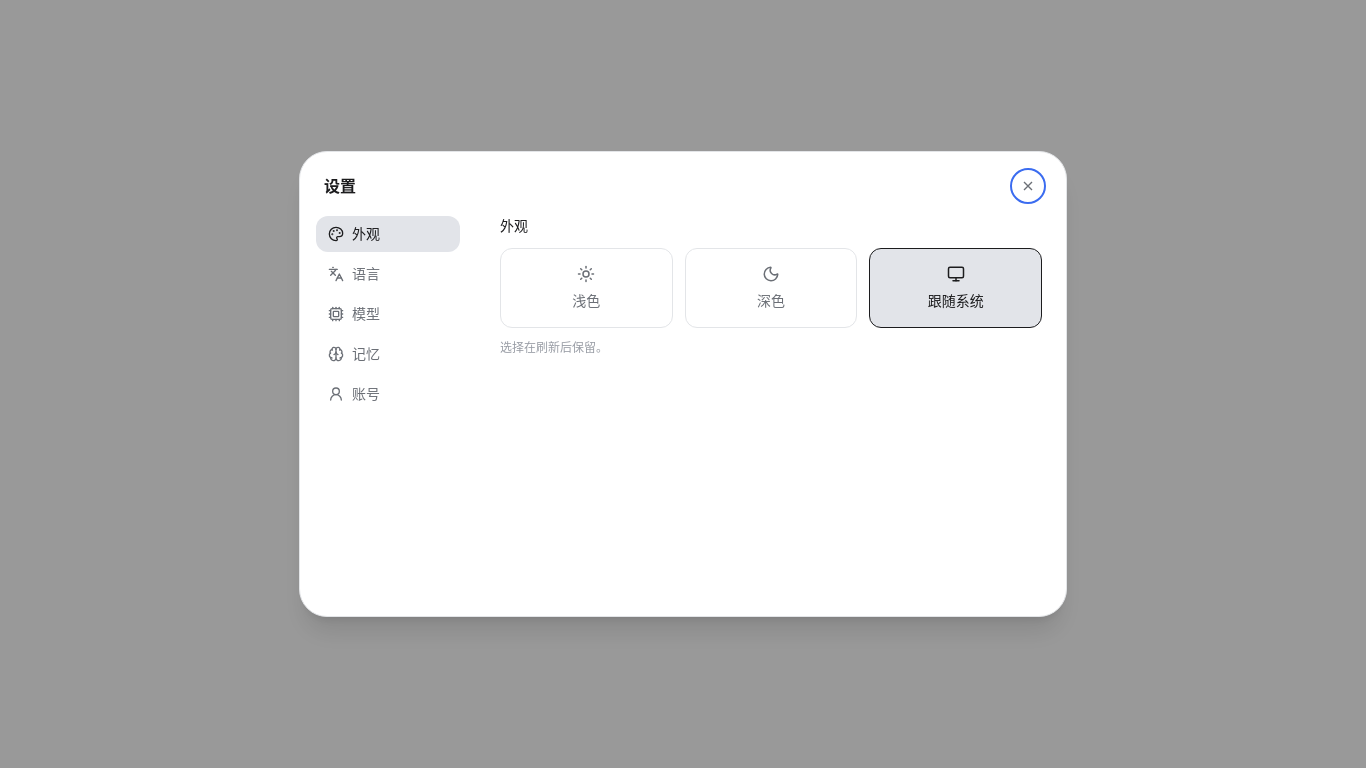
Test case: MemoryPane › lists entries newest first with type tags and the quota
The width and height of the screenshot is (1366, 768).
Click the button "记忆": (388, 354) [316,336,460,372]
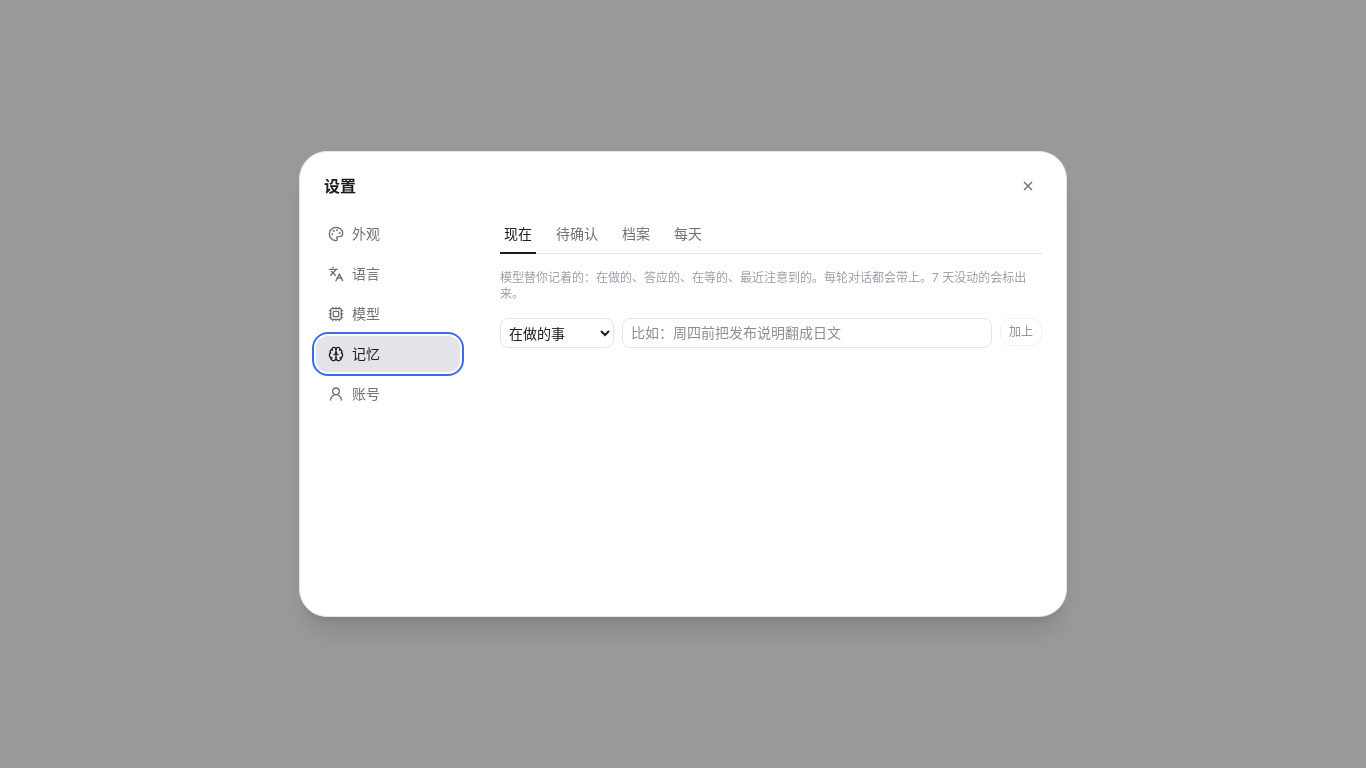
Click the tab "档案": (636, 235) [618,216,654,254]
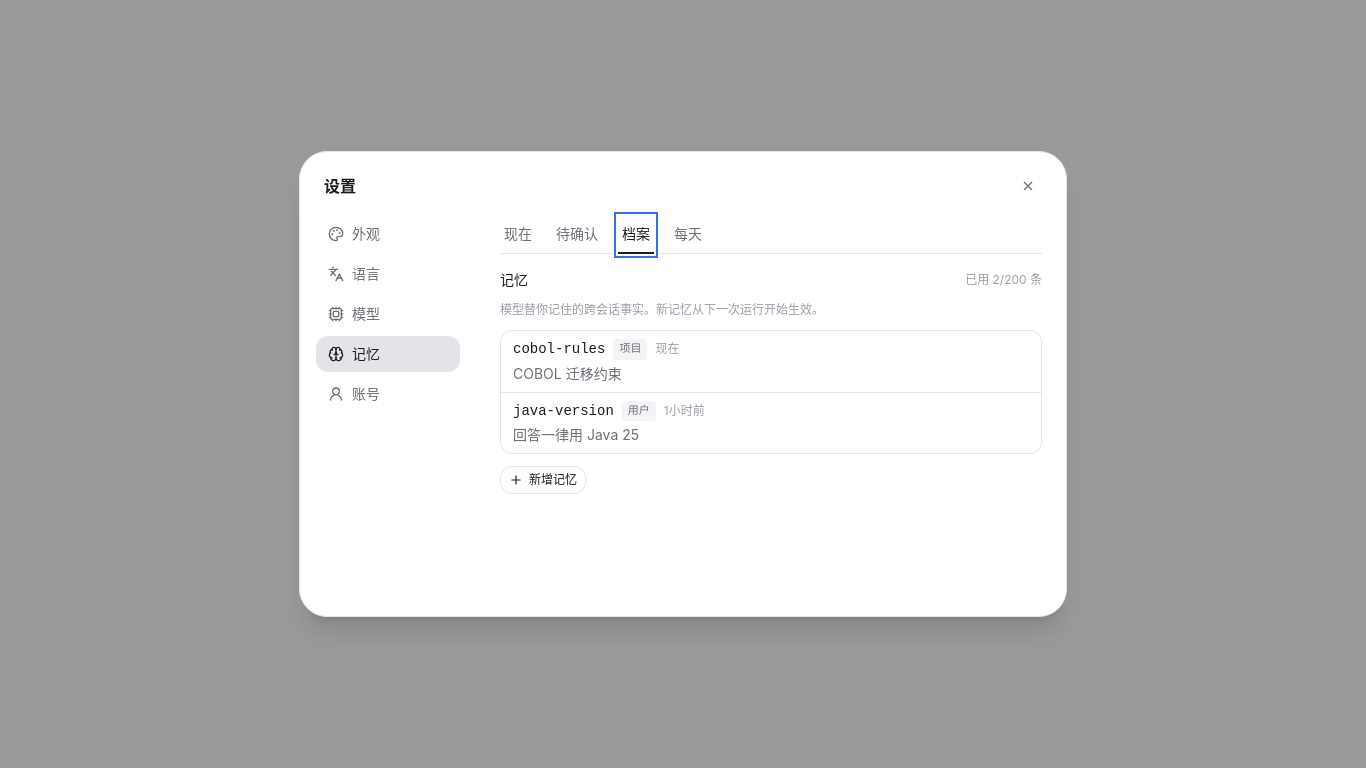
Check: the text "cobol-rules" is shown, box [513,339,605,359]
Check: the button "cobol-rules 项目 现在 COBOL 迁移约束" is shown, box [501,331,1041,392]
Check: the button that starts with "java-version" is shown, box [501,392,1041,453]
